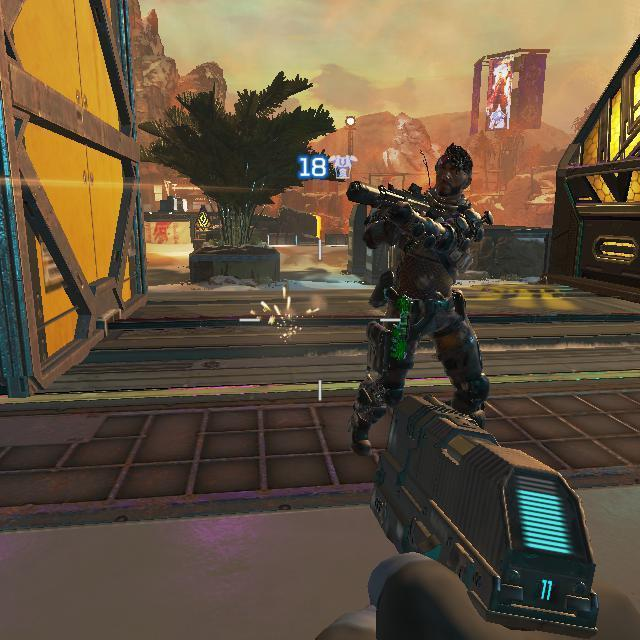avatar: (347, 143, 486, 458)
